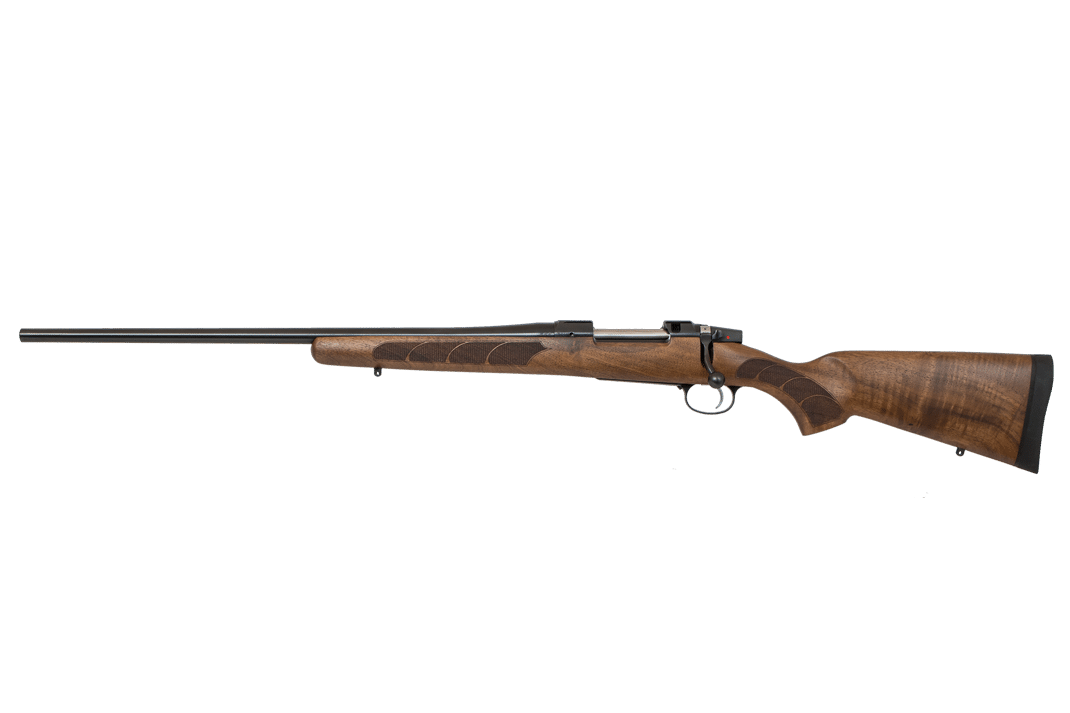Gun: (180, 291, 799, 414)
